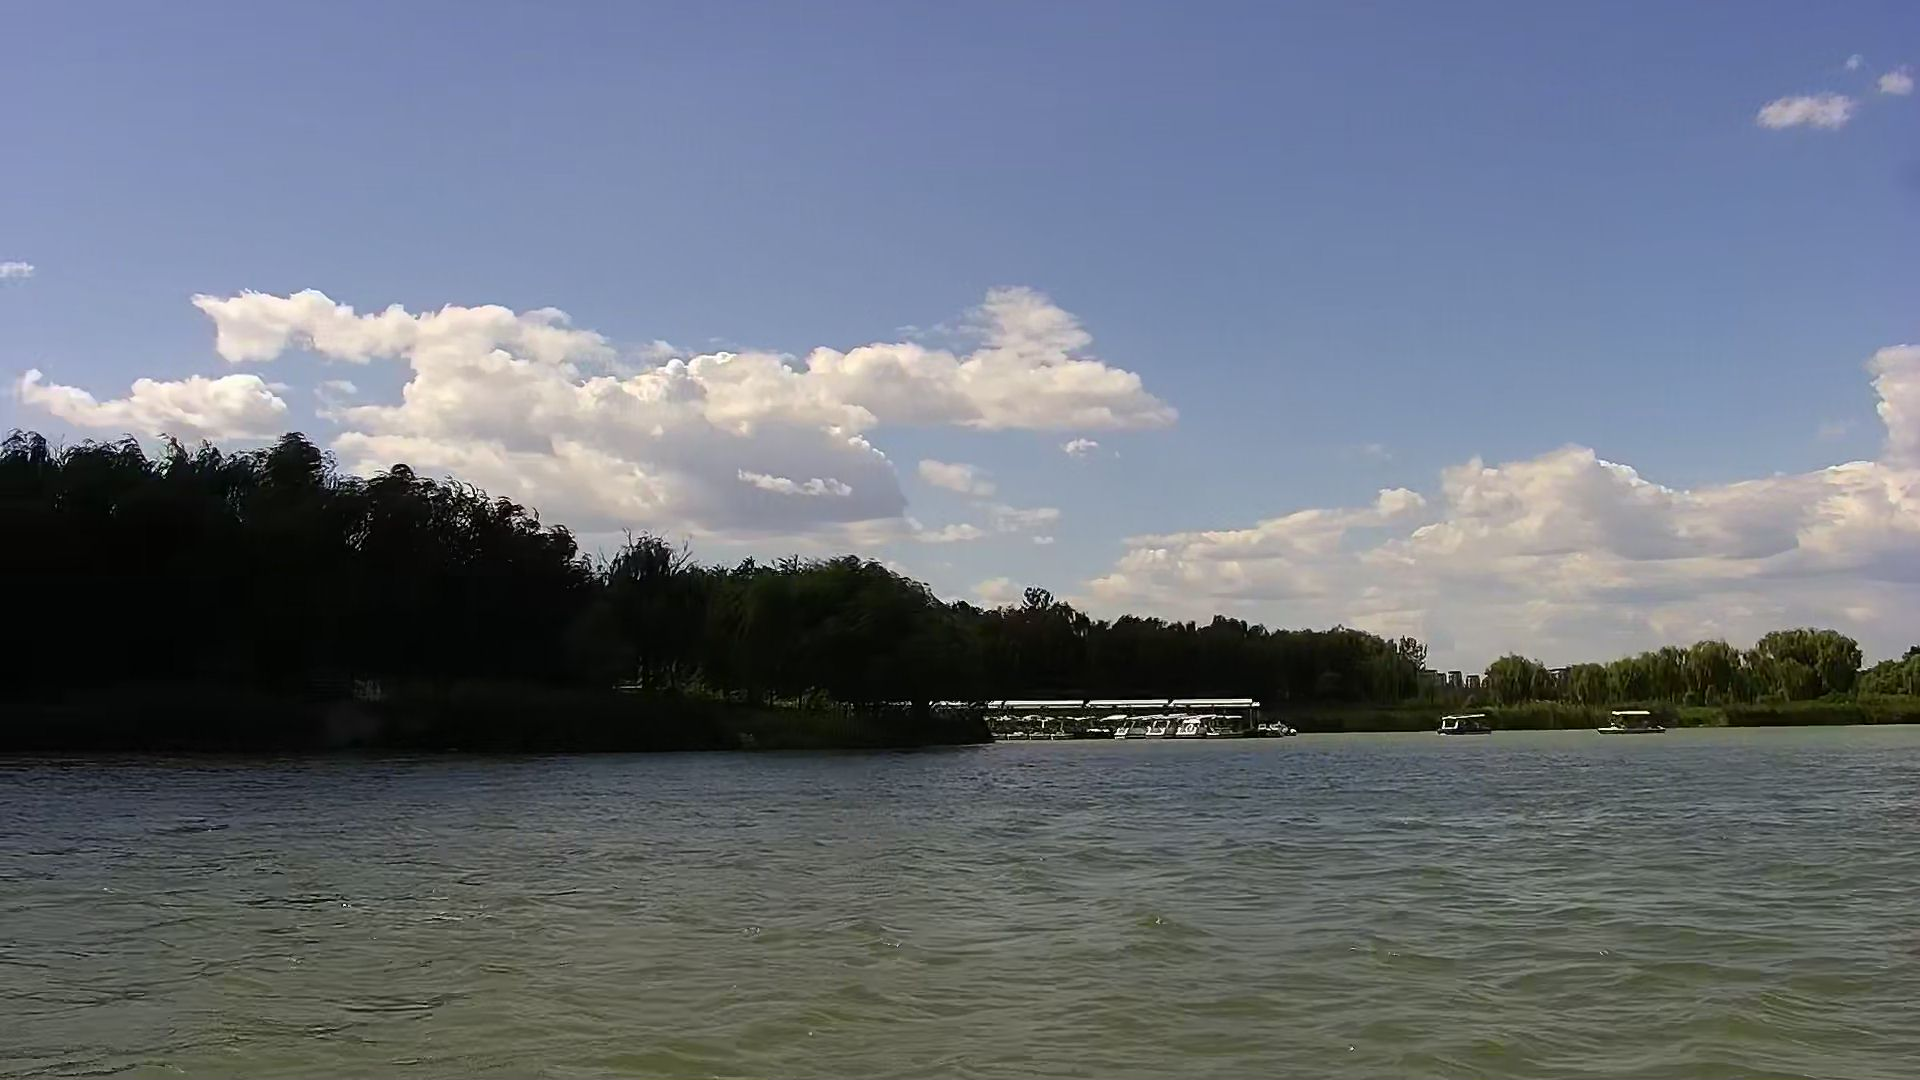boat: (1592, 702, 1673, 741), (1175, 708, 1247, 750), (1431, 704, 1501, 740), (1105, 713, 1153, 748), (1077, 716, 1125, 740), (1153, 713, 1187, 740)
